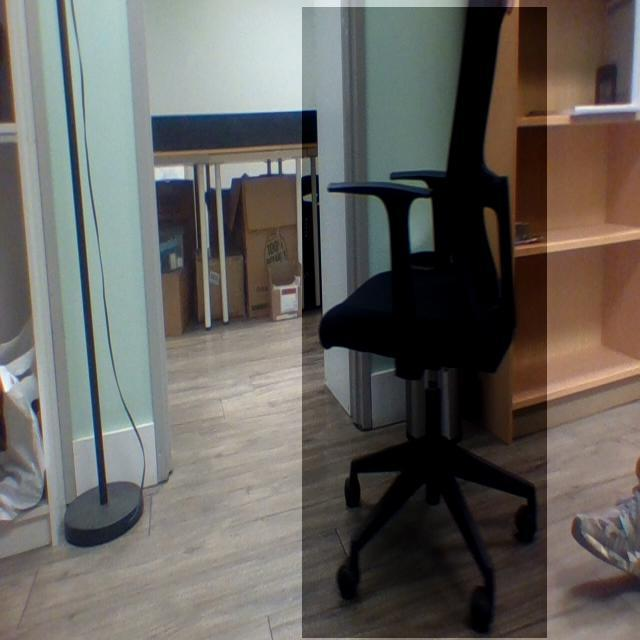chair: (302, 7, 548, 639)
